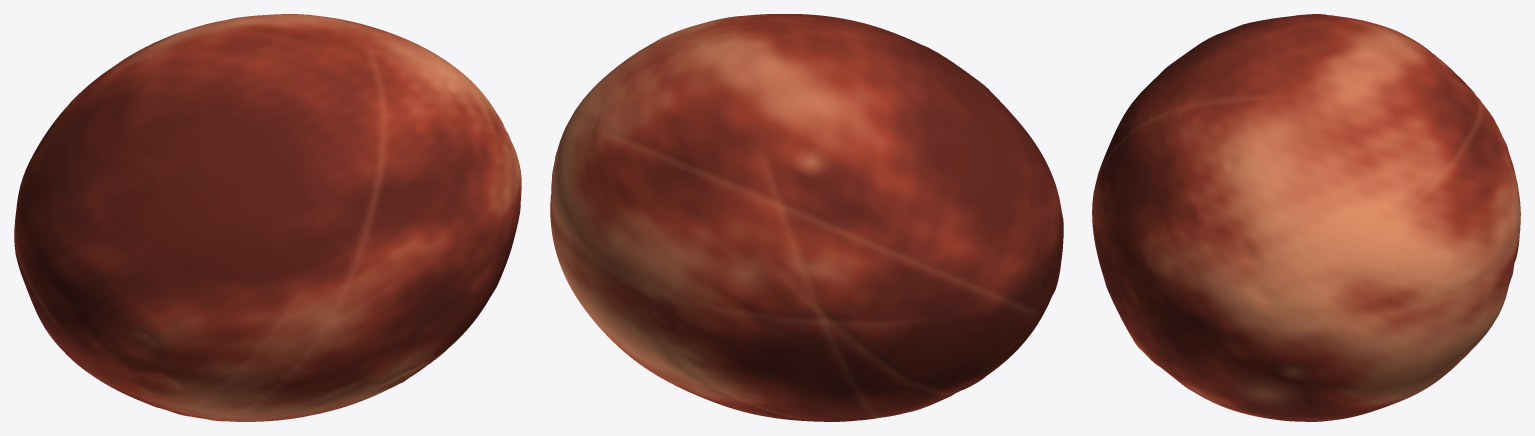
Rendered from nw189_primary.glb.
The picture shows the model from 3 angles, left to right: view 1: azimuth 30°, elevation 25°; view 2: azimuth 150°, elevation 25°; view 3: azimuth 270°, elevation 25°; orthographic projection. The views are drawn at different scales.
Parts seen in each view (by area): view 1: nw189_primary_body; view 2: nw189_primary_body; view 3: nw189_primary_body.
Boxes of the visible parts, <box> form: nw189_primary_body: <box>14,14,521,421</box>; nw189_primary_body: <box>550,14,1063,421</box>; nw189_primary_body: <box>1092,14,1520,421</box>.
Size of the model in its own units: 2.32 by 1.71 by 1.93.
Materials: 1 (1 with a texture image).
